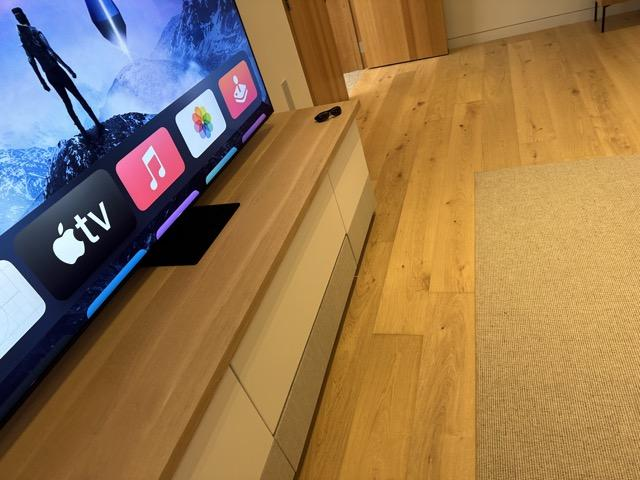Sunglasses: (315, 105, 342, 124)
